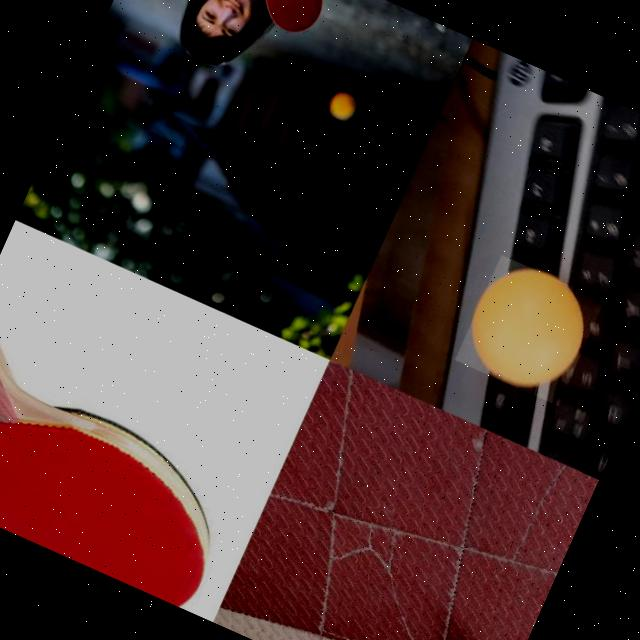ping-pong-ball: (454, 253, 604, 405), (325, 86, 361, 124)
